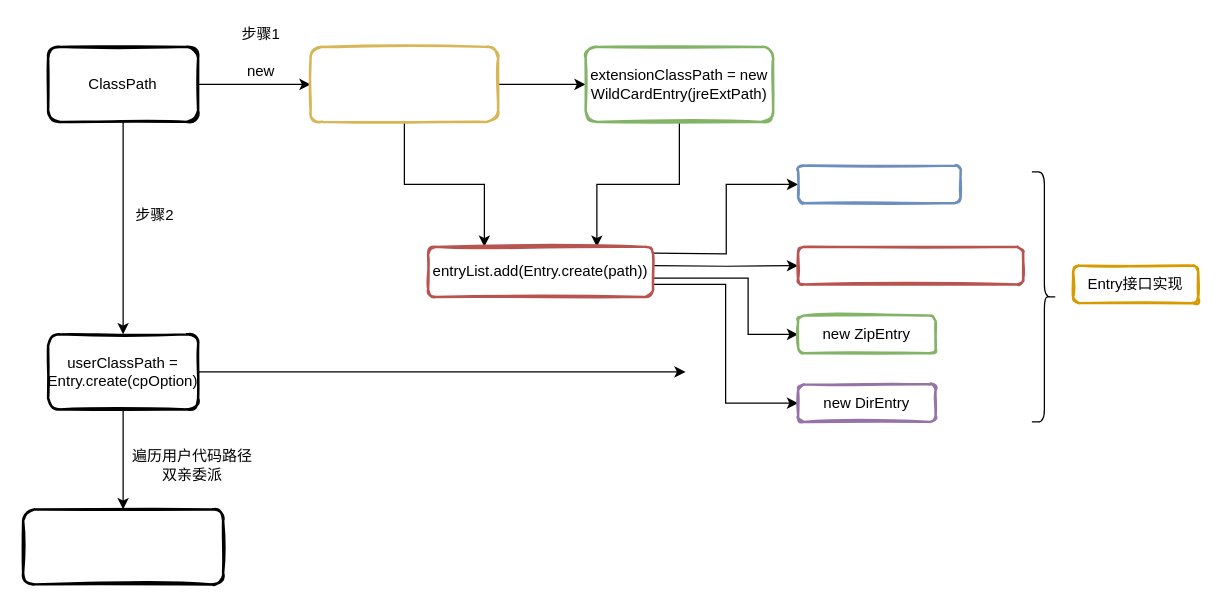
Some shapes in this 1220 by 606 pixel diagram are drawn without their labels. Here are the shapes that lost their labels. From the top down, the box of each, then its label:
(309, 45, 499, 122): bootstrapClassPath = new WildCardEntry(jreLibPath)
(796, 164, 961, 204): new CompositeEntry
(796, 245, 1024, 285): new WildCardEntry
(21, 508, 224, 585): cp.readClass(className)
